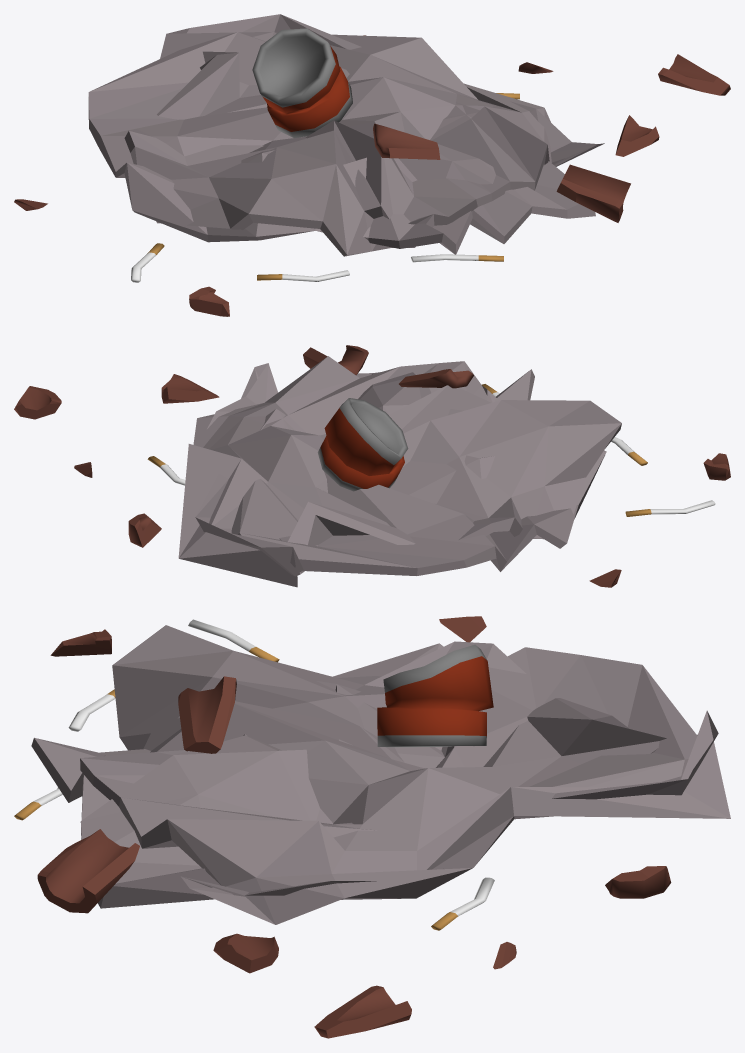
File: TrashPileSmall.fbx
3 views of the same model, one above another, from view 1: azimuth 30°, elevation 25°; view 2: azimuth 150°, elevation 25°; view 3: azimuth 270°, elevation 25° (orthographic). The views are drawn at different scales.
Parts seen in each view (by area): view 1: TrashPileSmall; view 2: TrashPileSmall; view 3: TrashPileSmall.
Boxes of the visible parts, left/top/right/bottom form: TrashPileSmall: left=14, top=14, right=730, bottom=316; TrashPileSmall: left=14, top=345, right=730, bottom=587; TrashPileSmall: left=14, top=616, right=730, bottom=1038.
Size of the model in its own units: 101 by 18.43 by 74.1.
